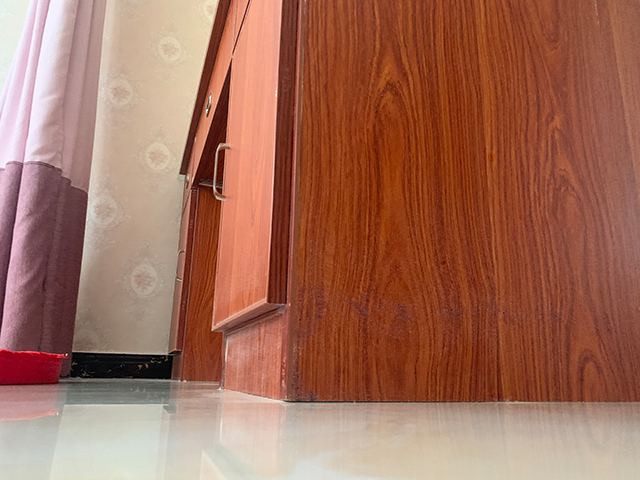curtain: (1, 1, 106, 377)
table: (168, 1, 640, 403)
